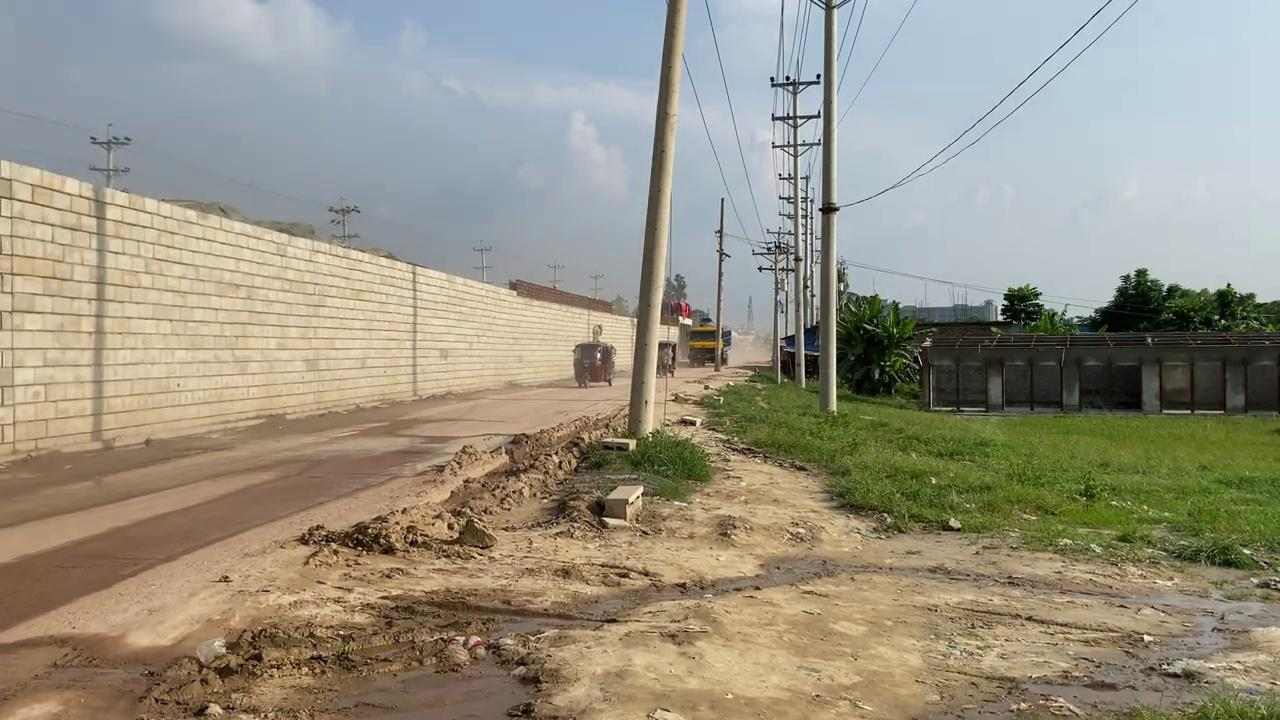Fence: (915, 330, 1278, 415)
Garbage-bin: (572, 341, 616, 387), (656, 340, 676, 377)
Obstacle: (603, 483, 643, 522)
Pole: (626, 0, 687, 439), (817, 0, 839, 413), (713, 196, 725, 371)
Rickshaw: (1, 362, 1277, 718)
Traffic-sign: (999, 282, 1044, 331)
Tree: (686, 316, 731, 367)
Upstairs: (0, 157, 681, 457)
